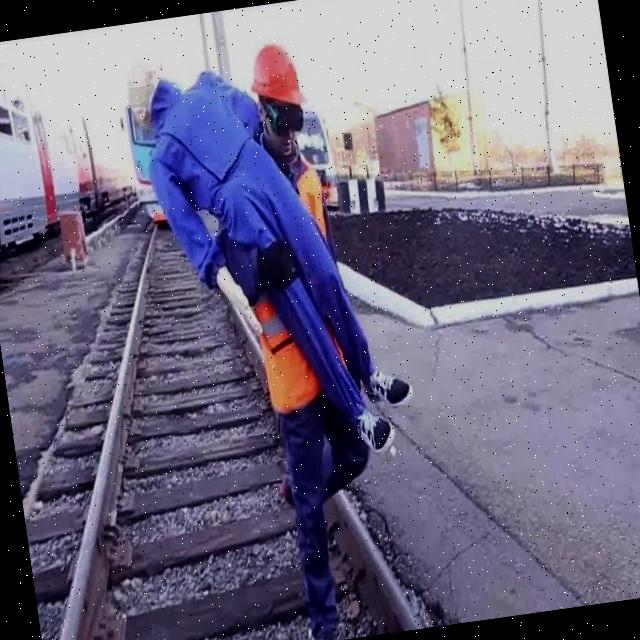vest: (237, 156, 354, 418)
